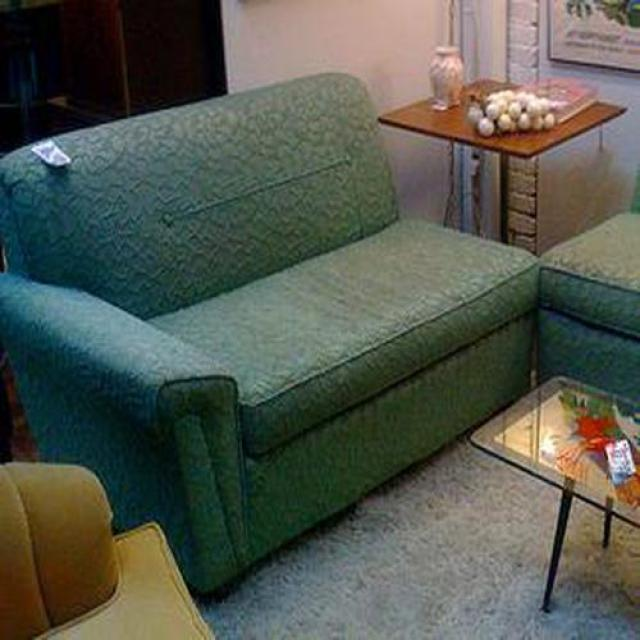sofa: (0, 74, 539, 599)
